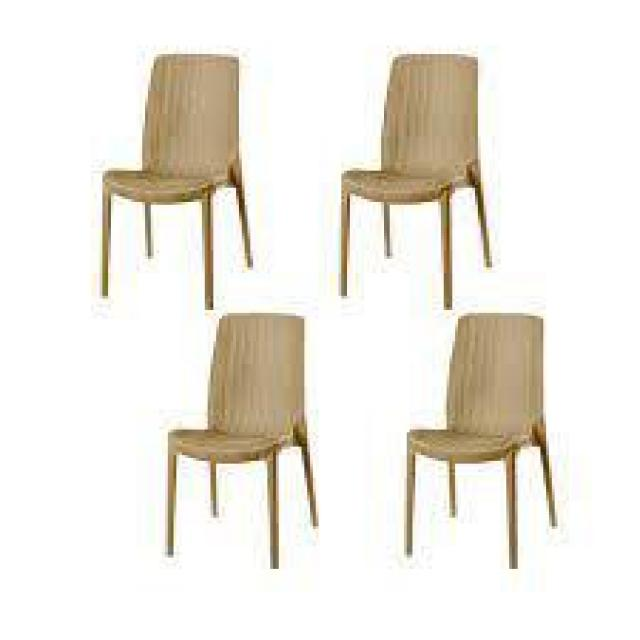chair: (84, 22, 579, 592)
